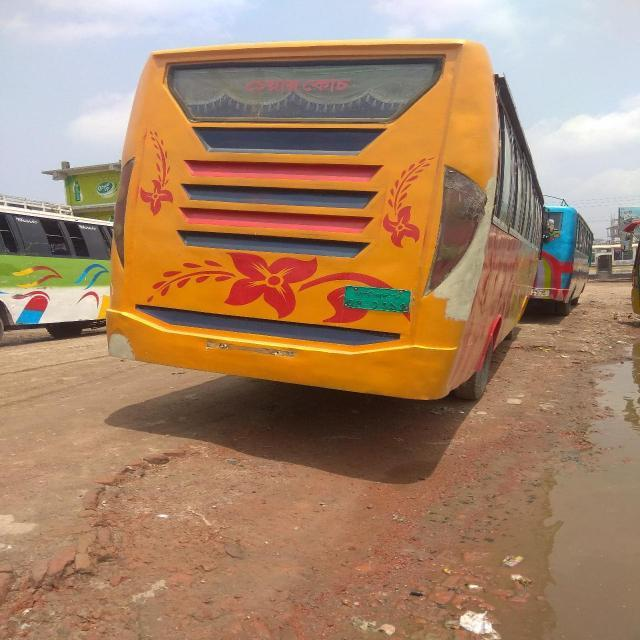numberplate: (343, 285, 411, 313)
